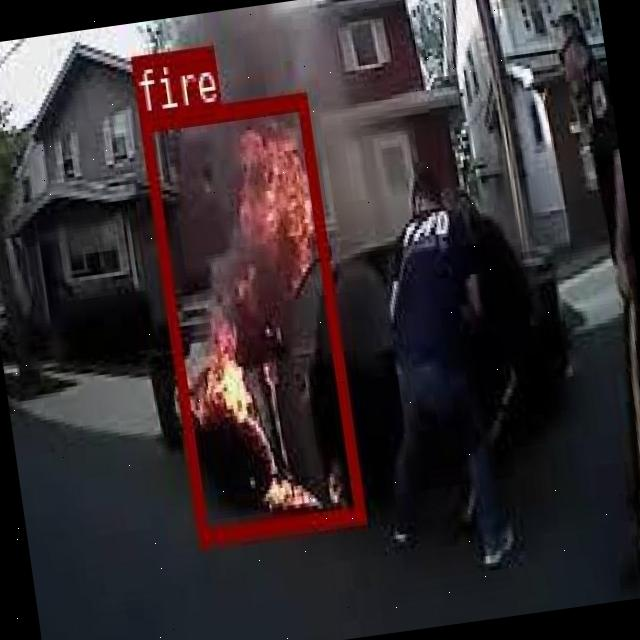fire: (139, 92, 363, 541)
